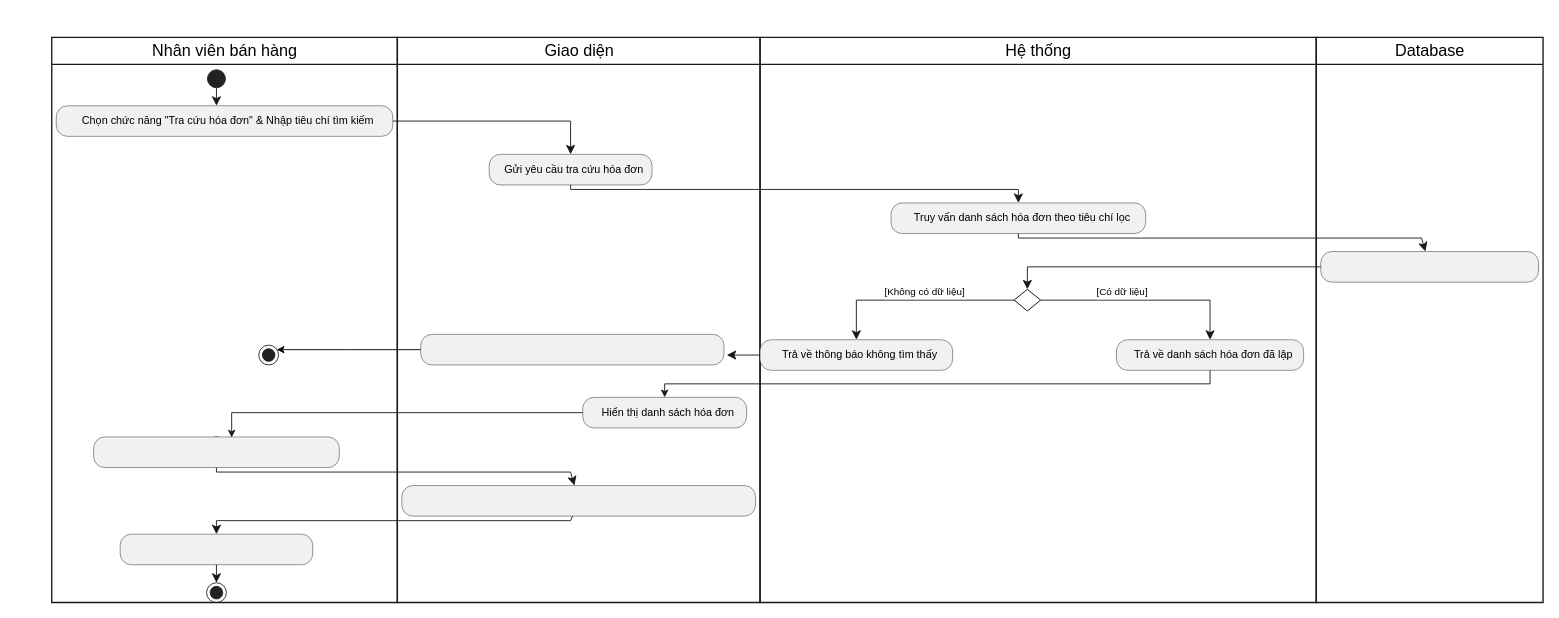
The diagram is 1559 pixels wide and 618 high, and some of its shapes have lost their labels. Here are the shapes that lost their labels. From the top down, the centre of each, then its label:
(1429,266): Tìm kiếm và trả về danh sách kết quả
(572,349): Hiển thị thông báo "Không tìm thấy hóa đơn phù hợp"
(216,451): Chọn một hóa đơn để xem chi tiết thông tin
(578,500): Hiển thị chi tiết hóa đơn (sách đã mua, khuyến mãi, thanh toán)
(216,549): Xem thông tin và kết thúc tra cứu
